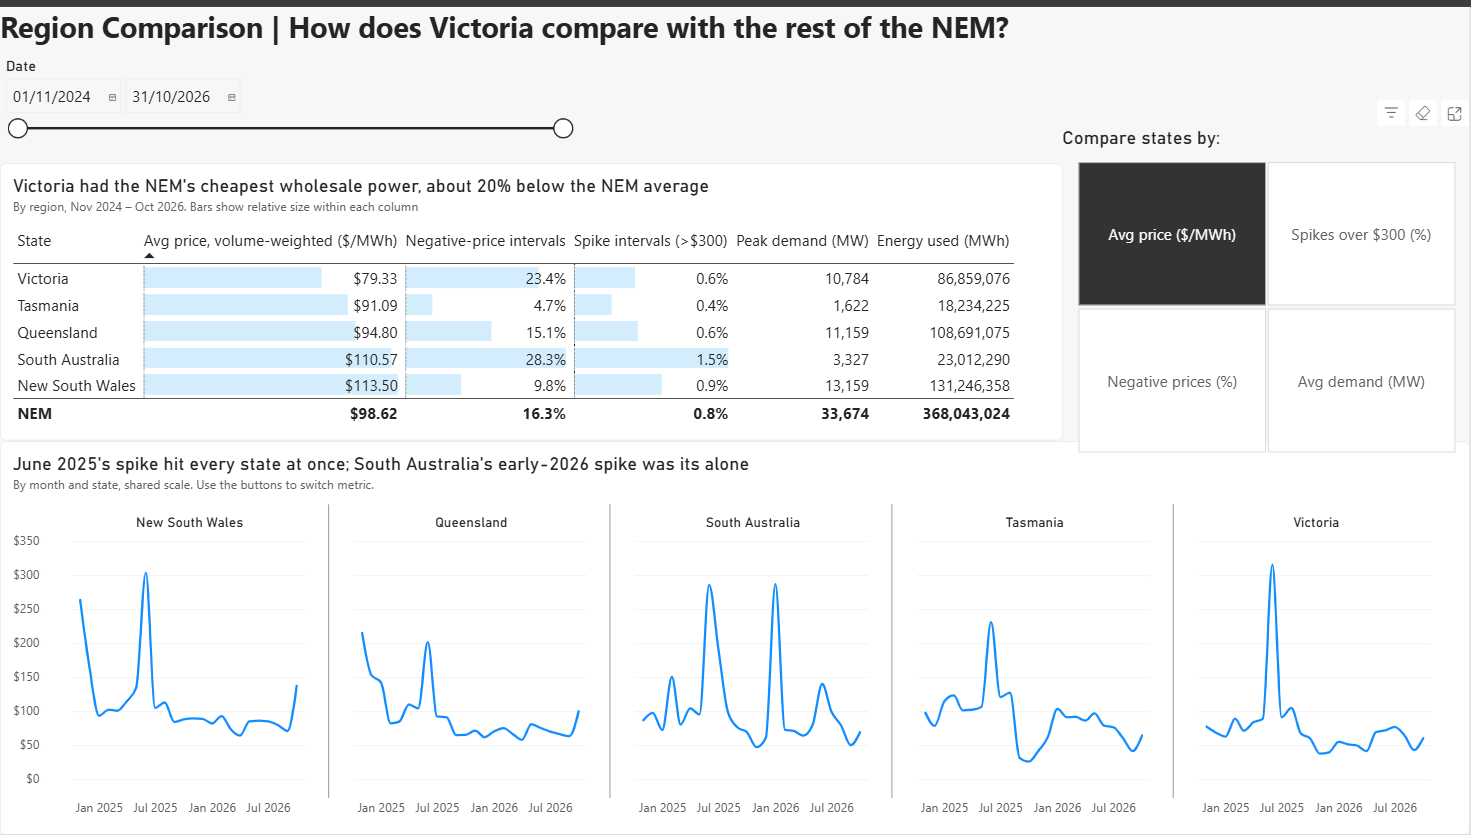

The dashboard page shown, as its layout file describes it:
{"tool":"powerbi","page":{"name":"Region Comparison","canvas":[1920,1080],"ordinal":4},"visuals":[{"type":"textbox","box":[0,0,1650.7,64.7],"z":0},{"type":"slicer","fields":{"Values":["DimDate.Date"]},"box":[0,64.9,752.2,184],"z":1000},{"type":"tableEx","title":"Victoria had the NEM''s cheapest wholesale power, about 20% below the NEM average","fields":{"Values":["DimRegion.State","_Measures.VWAP","_Measures.Negative Price %","_Measures.Spike %","_Measures.Peak Demand MW","_Measures.Total Energy MWh"]},"box":[0,204.8,1388.7,362.2],"z":2000},{"type":"lineChart","fields":{"Category":["DimDate.MonthStart"],"Rows":["DimRegion.State"],"Y":["_Measures.Negative Price %"]},"box":[0,567.3,1920.5,513.7],"z":3000},{"type":"slicer","title":"Compare states by:","fields":{"Values":["Metric.Metric"]},"box":[1388.3,156.8,532.2,427],"z":4000}]}

Visuals, with their boxes in screenshot pixels (x1, y1, x2, y2), scaled from the page's 1920x1080 canvas onto the 1471x835 screenshot:
textbox: region(0, 0, 1265, 50)
slicer - DimDate.Date: region(0, 50, 576, 192)
"Victoria had the NEM''s cheapest wholesale power, about 20% below the NEM average" tableEx: region(0, 158, 1064, 438)
lineChart - DimDate.MonthStart x DimRegion.State: region(0, 439, 1470, 834)
"Compare states by:" slicer: region(1064, 121, 1470, 451)
